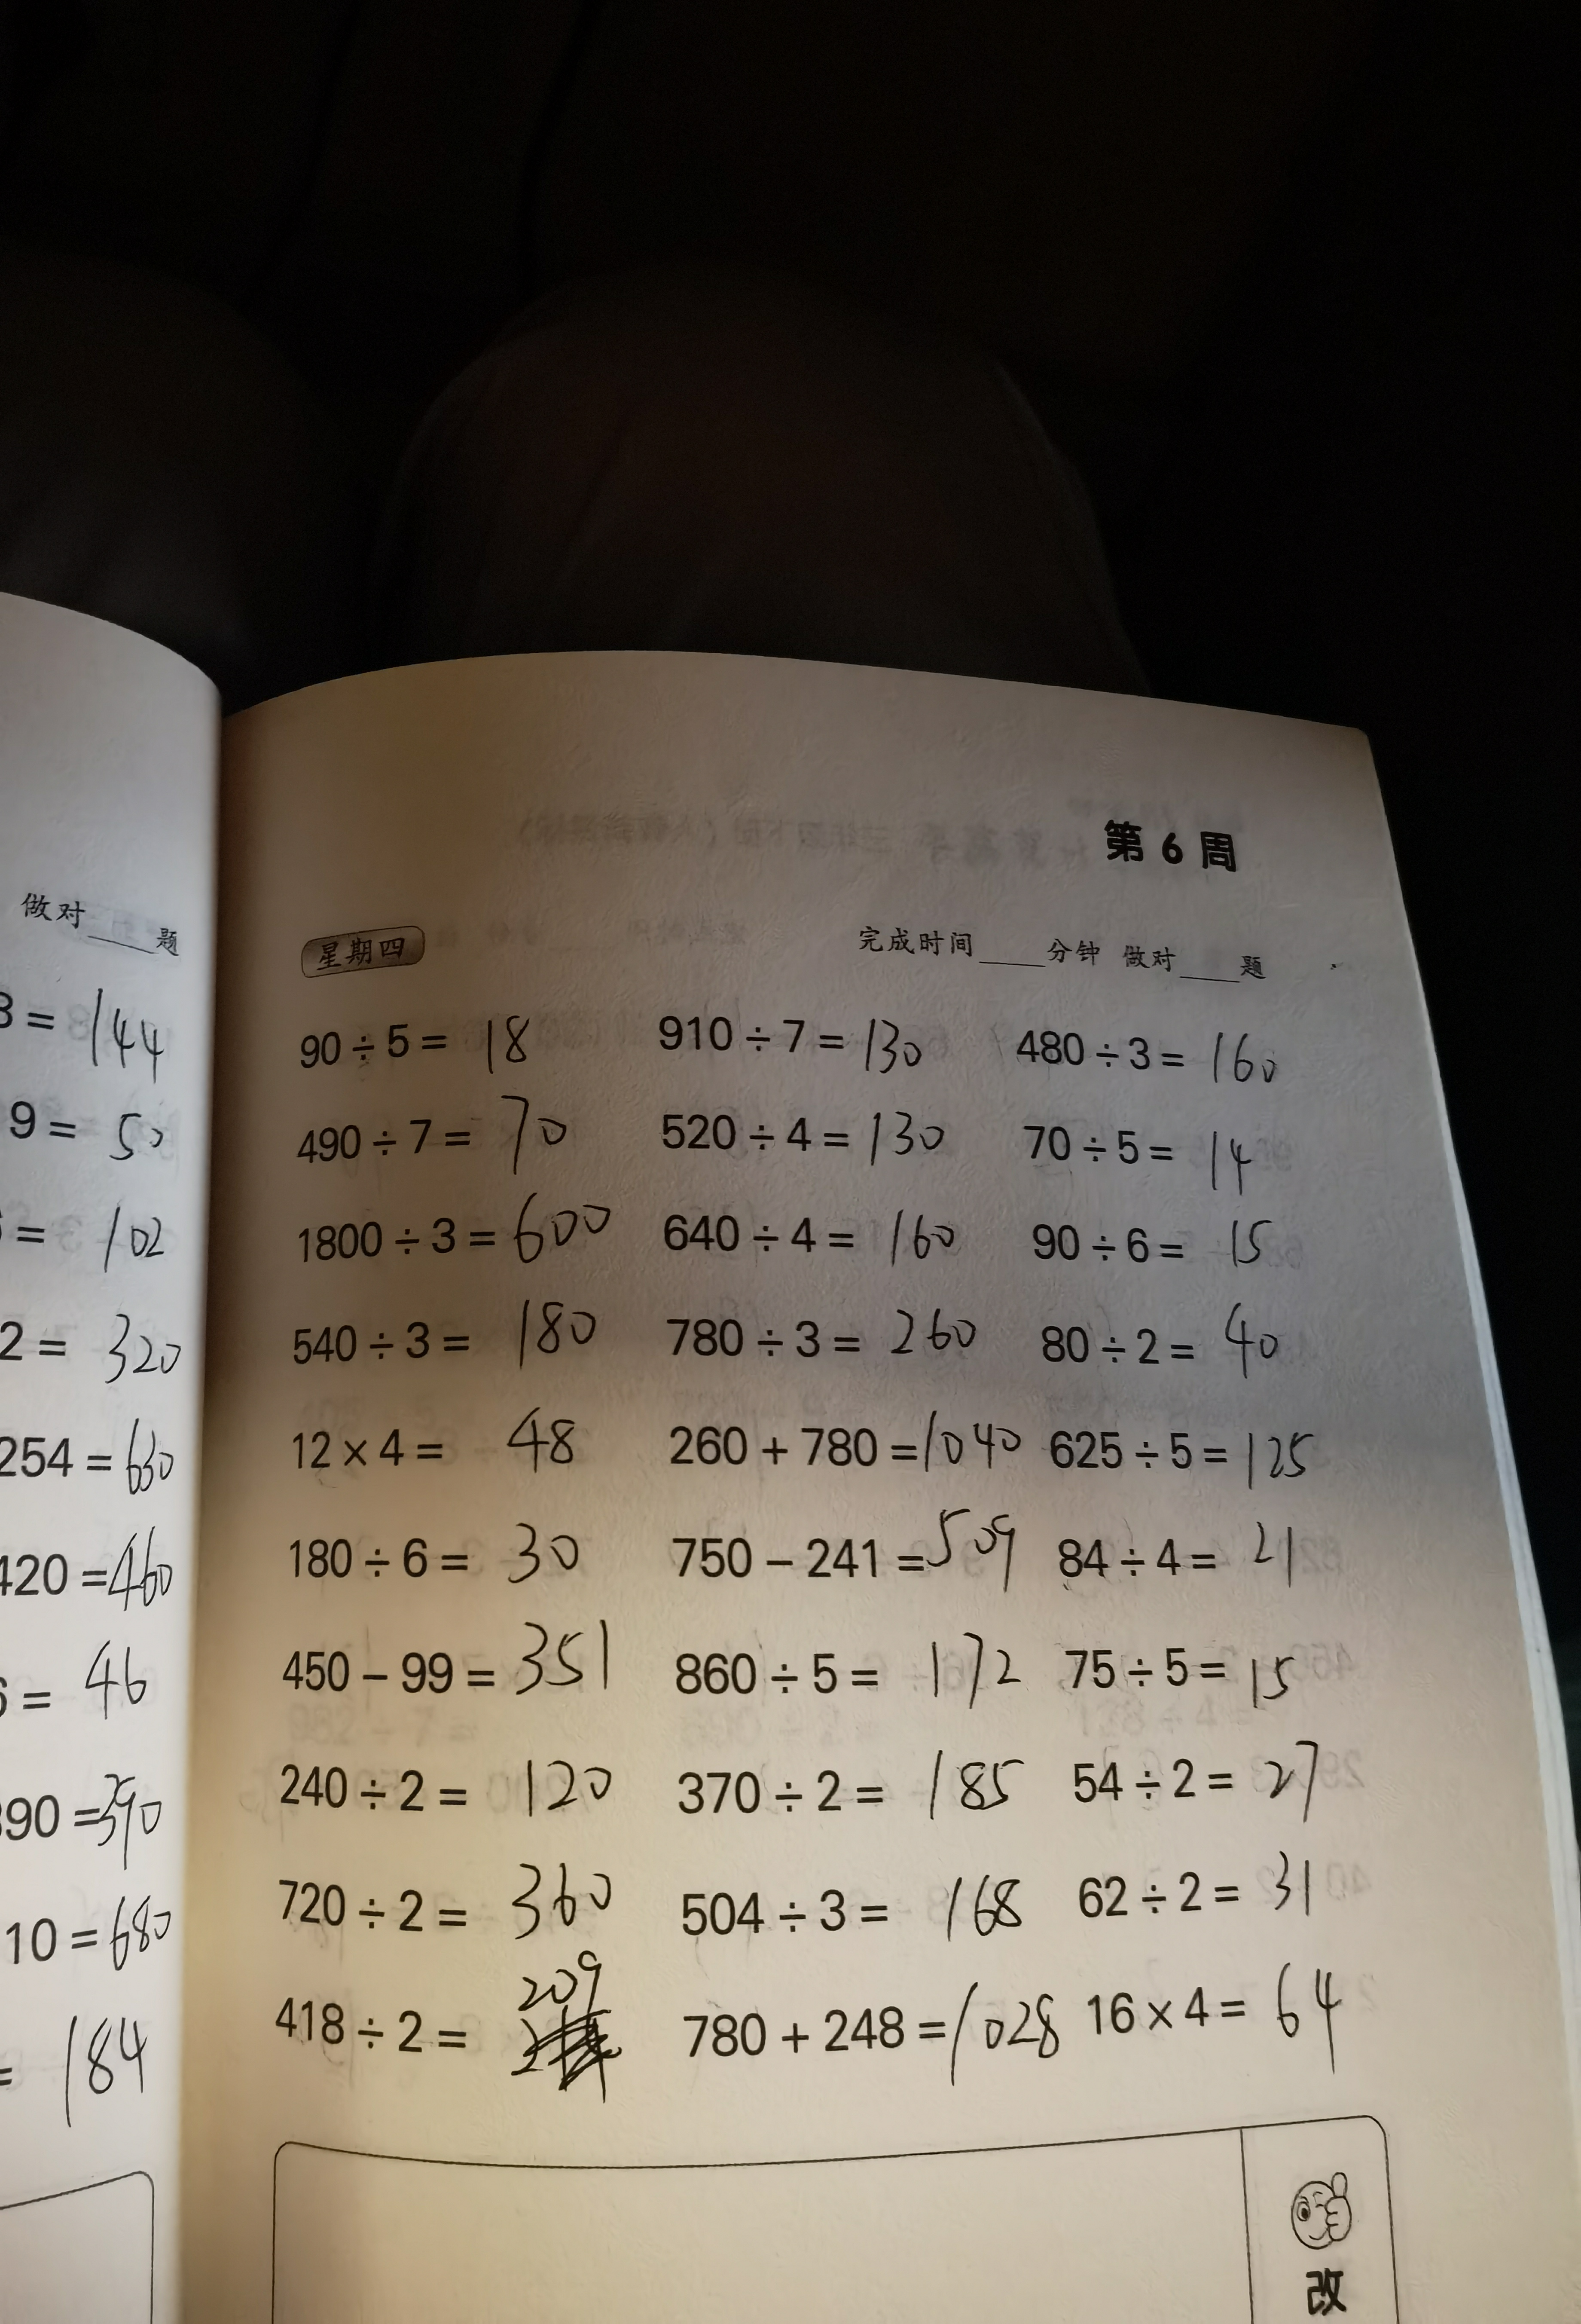equation: (242, 1946, 655, 2079), (678, 1975, 1071, 2091), (258, 1733, 655, 1842), (263, 1616, 653, 1724), (662, 1856, 1080, 1955), (681, 1498, 1046, 1606), (678, 1738, 1039, 1844), (258, 1403, 646, 1498), (1076, 1966, 1412, 2072), (674, 1632, 1050, 1722), (1046, 1846, 1359, 1952), (663, 1399, 1034, 1484), (648, 1200, 988, 1292), (663, 1295, 1015, 1383), (995, 1002, 1302, 1103), (1048, 1733, 1346, 1832), (655, 990, 958, 1082), (1032, 1299, 1343, 1387), (1020, 1412, 1343, 1495), (261, 1521, 632, 1592), (281, 1865, 633, 1938), (289, 1297, 607, 1376), (284, 1196, 623, 1267), (1045, 1516, 1359, 1592), (300, 1092, 581, 1173), (1050, 1631, 1341, 1708), (1009, 1112, 1278, 1188), (284, 1011, 559, 1080), (1008, 1211, 1304, 1272), (656, 1106, 960, 1166)
